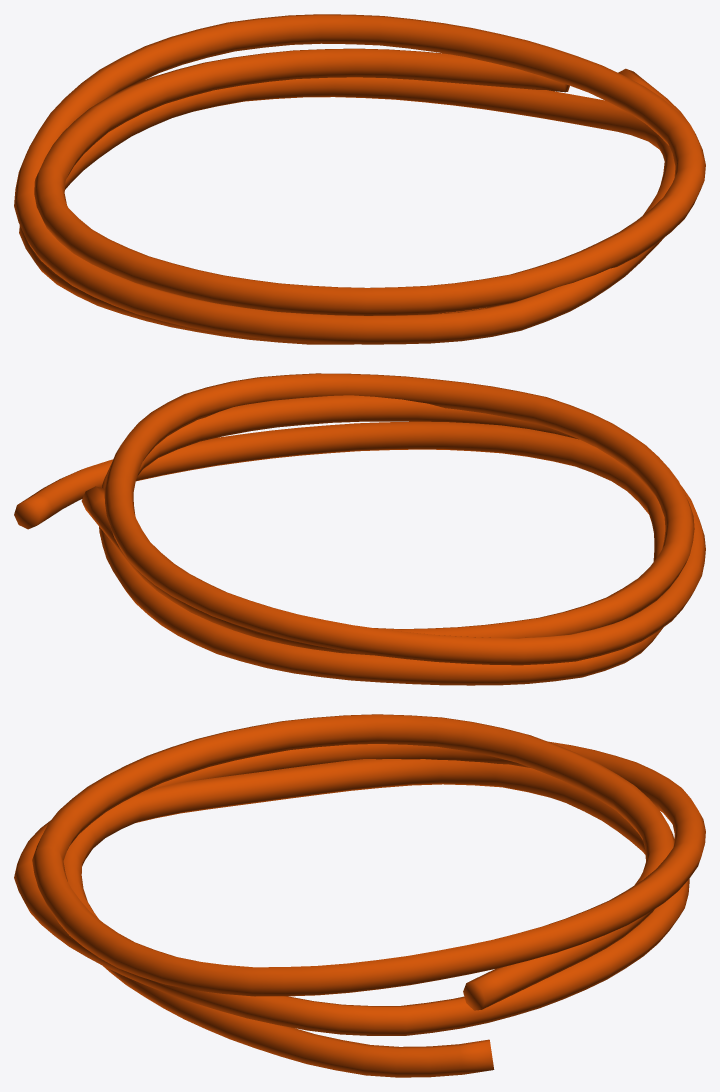
The model's file is Rope.fbx.
3 renders of one model, top to bottom at view 1: azimuth 30°, elevation 25°; view 2: azimuth 150°, elevation 25°; view 3: azimuth 270°, elevation 25°, orthographic. The views are drawn at different scales.
Visible parts, largest first — view 1: Cylinder.020; view 2: Cylinder.020; view 3: Cylinder.020.
Part boxes in pixels (left/top/right/bottom): Cylinder.020: left=14, top=14, right=705, bottom=344; Cylinder.020: left=14, top=373, right=705, bottom=685; Cylinder.020: left=14, top=714, right=705, bottom=1077.
Size of the model in its own units: 488 by 68.3 by 448.
